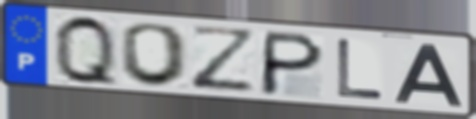A: (391, 41, 466, 108)
L: (334, 36, 387, 102)
O: (118, 21, 192, 88)
P: (256, 29, 328, 98)
Q: (51, 12, 122, 91)
Z: (187, 23, 260, 93)
